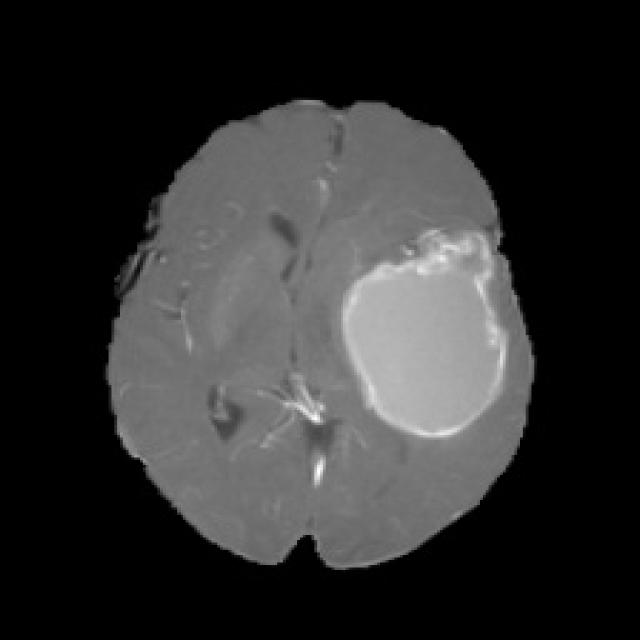negative: (340, 232, 509, 440)
